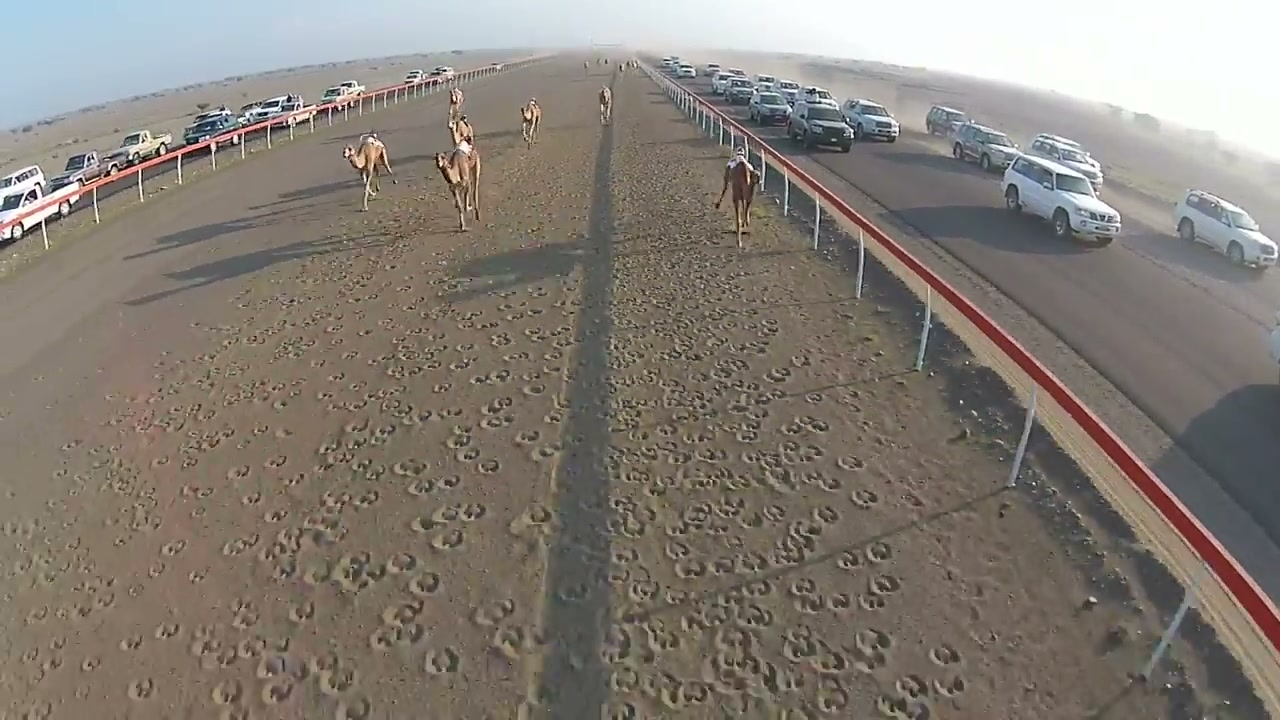animal_foot_print: (0, 86, 1112, 719), (605, 244, 954, 717), (319, 312, 558, 682), (50, 455, 280, 620), (703, 646, 812, 706), (257, 525, 339, 574), (702, 649, 780, 695), (411, 503, 487, 548), (254, 637, 312, 682), (719, 693, 815, 719), (769, 520, 820, 566), (601, 625, 655, 667), (329, 553, 385, 593), (928, 643, 967, 697), (846, 628, 893, 672), (491, 624, 543, 662), (654, 679, 712, 711), (54, 593, 116, 622), (369, 621, 426, 652), (20, 643, 65, 681), (258, 543, 299, 581), (508, 502, 553, 536), (710, 625, 760, 655), (814, 674, 850, 715), (189, 624, 233, 657), (874, 694, 932, 719), (782, 627, 821, 663), (787, 577, 825, 613), (809, 642, 850, 675), (316, 665, 357, 696), (381, 598, 424, 627), (472, 599, 516, 626), (642, 626, 682, 655), (406, 475, 460, 496), (605, 512, 652, 536), (737, 601, 777, 629), (779, 440, 825, 464), (424, 646, 461, 675), (259, 678, 297, 706), (368, 412, 399, 446), (708, 557, 763, 576), (221, 532, 261, 557), (763, 466, 800, 493), (894, 675, 929, 703), (334, 694, 373, 719), (711, 468, 753, 491), (210, 678, 244, 706), (406, 571, 442, 597), (610, 662, 639, 694), (778, 417, 824, 437), (231, 598, 260, 629), (932, 673, 967, 698), (302, 559, 333, 586), (626, 580, 659, 605), (553, 582, 590, 604), (601, 701, 643, 719), (835, 550, 868, 572), (794, 415, 830, 435), (673, 558, 707, 579), (386, 551, 417, 574), (929, 643, 960, 666), (424, 474, 461, 493), (869, 574, 901, 595), (605, 563, 632, 587), (287, 600, 315, 623), (725, 393, 754, 415), (864, 541, 892, 563), (850, 488, 880, 508), (128, 678, 155, 700), (445, 428, 472, 450), (479, 413, 516, 429), (811, 505, 840, 525), (735, 421, 760, 444), (352, 489, 380, 509), (826, 592, 854, 612), (530, 443, 562, 460), (858, 593, 887, 610), (409, 516, 438, 533), (153, 622, 181, 639), (836, 455, 865, 471), (682, 431, 714, 445), (515, 429, 541, 446), (901, 491, 925, 508), (454, 446, 479, 462), (521, 381, 547, 396), (764, 367, 790, 382), (119, 635, 143, 651), (476, 458, 500, 474), (227, 466, 250, 482), (264, 455, 288, 470), (263, 508, 287, 523), (489, 332, 512, 347), (502, 351, 530, 363), (81, 656, 100, 672), (187, 568, 207, 583), (60, 439, 82, 452), (543, 412, 563, 425), (273, 426, 293, 439), (242, 492, 260, 505), (804, 392, 825, 403), (151, 456, 169, 468), (432, 383, 450, 393), (433, 383, 441, 391)
